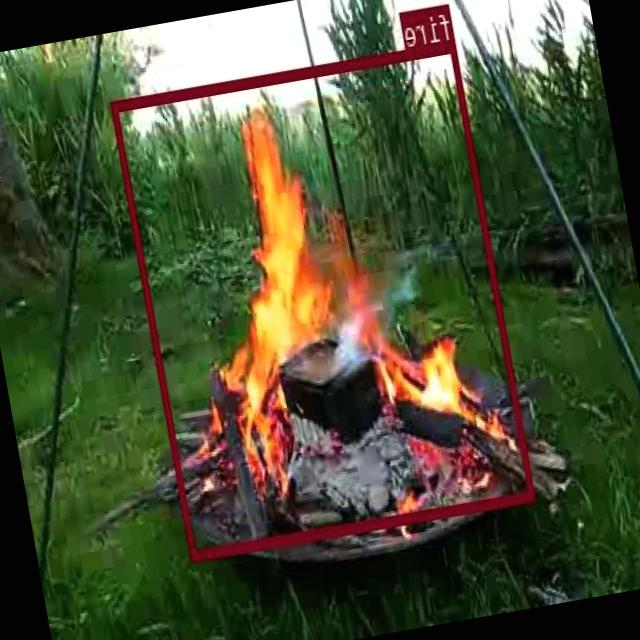fire: (111, 38, 536, 560)
